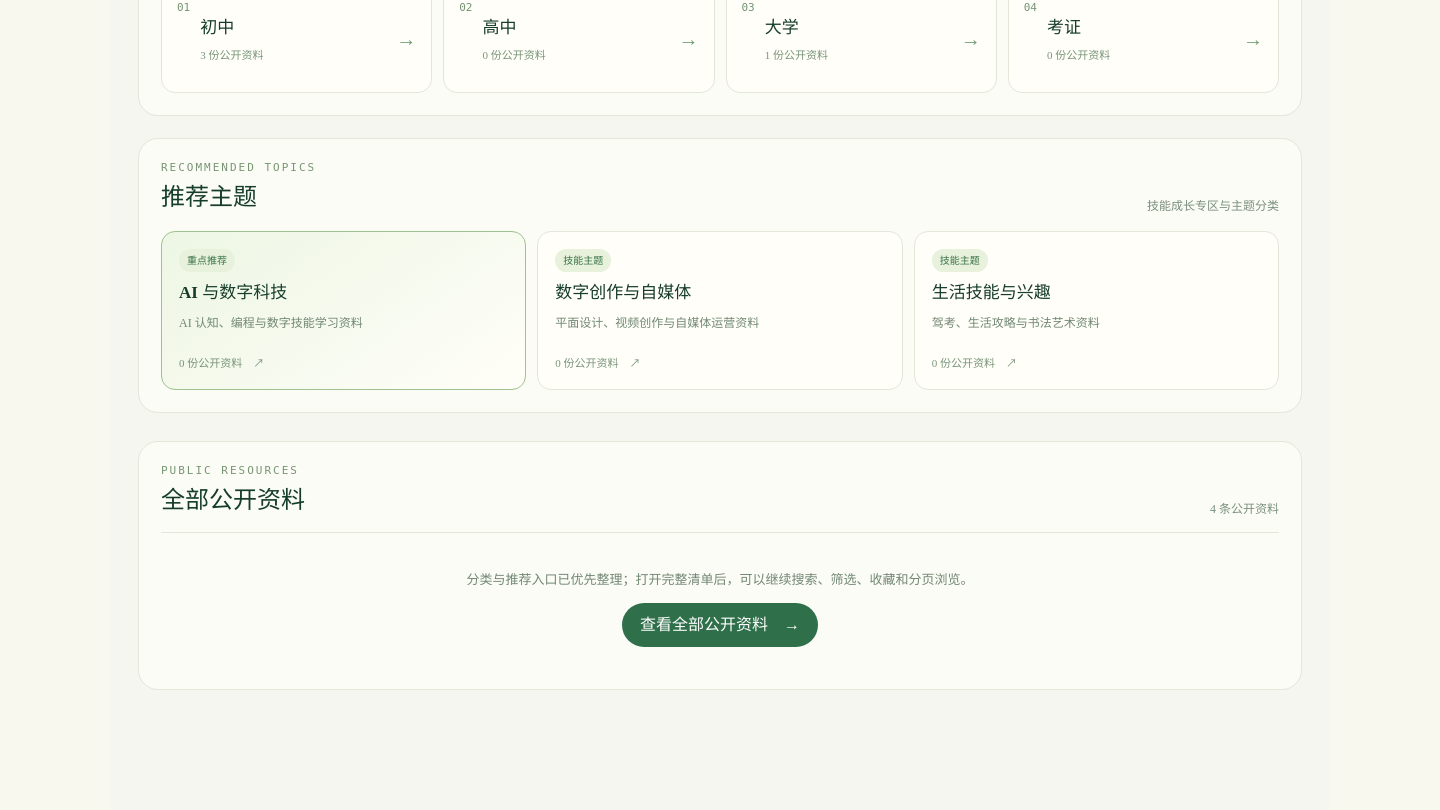
Test: resource discovery layout › keeps the full resource list behind an explicit action
(page scrolled)
Check: the text "合成大学一级资料" is not shown
Click the button "查看全部公开资料 →" at [720, 625], box x1=622 y1=603 x2=818 y2=647
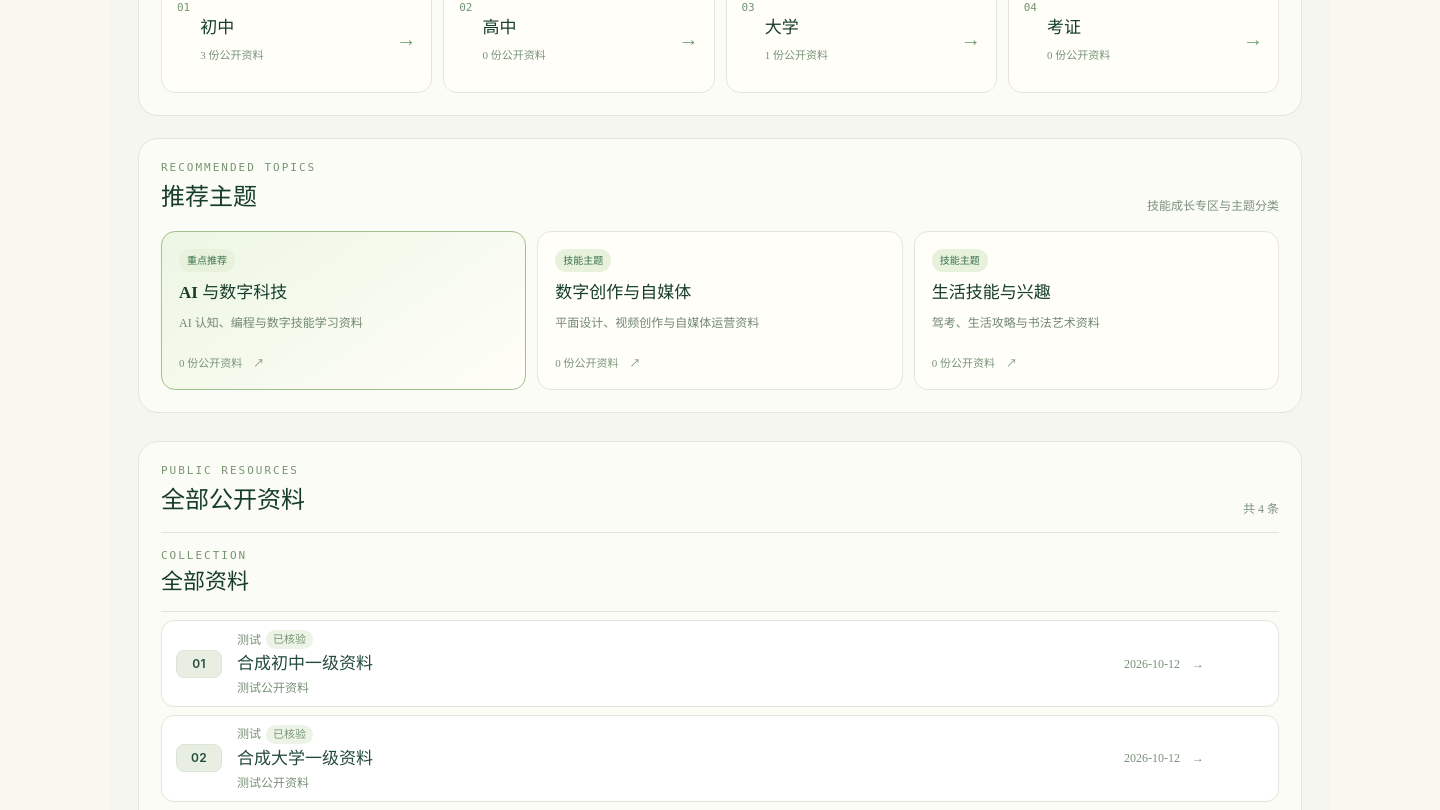
Check: the text "合成大学一级资料" is shown, box x1=237 y1=749 x2=373 y2=768
Check: the heading "全部资料" is shown, box x1=161 y1=567 x2=249 y2=597
